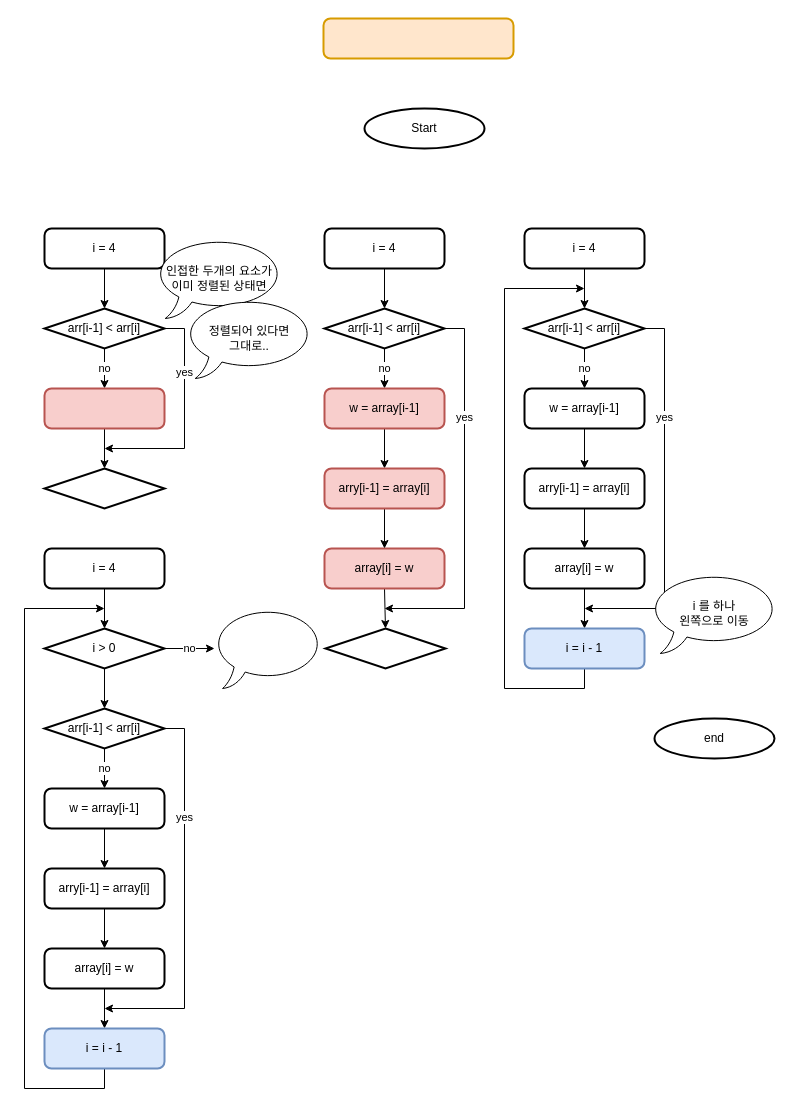
Image size: 797x1114. Some labels were removed from this diagram. The box of each missing label's shape, as (x1, y1, x2, y2) in pixels:
교환: (43, 387, 165, 429)
두 번째 요소를 확정시키는 처리 로 다시 시작: (212, 608, 324, 688)
정렬 - 단순 교환법: (322, 17, 514, 59)
